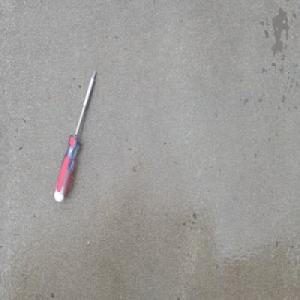Screwdriver: (52, 68, 97, 204)
